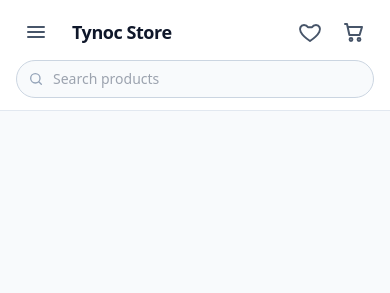
it: Header › has a mobile menu that lists the categories and toggles
The width and height of the screenshot is (390, 293).
Step 1. Click the button named "Menu" → (36, 32), box [16,12,56,52]
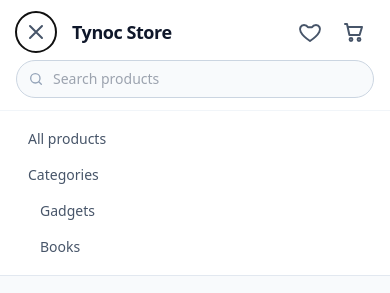
Result: the button named "Menu" is expanded
Step 2. Click the button named "Menu" → (36, 32), box [16,12,56,52]
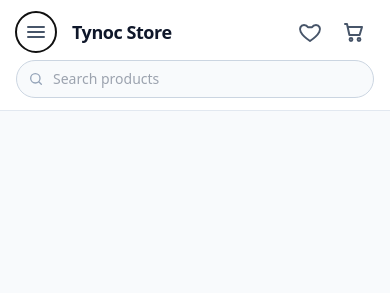
Result: the navigation bar "All products Categories Gadgets Books" is gone
